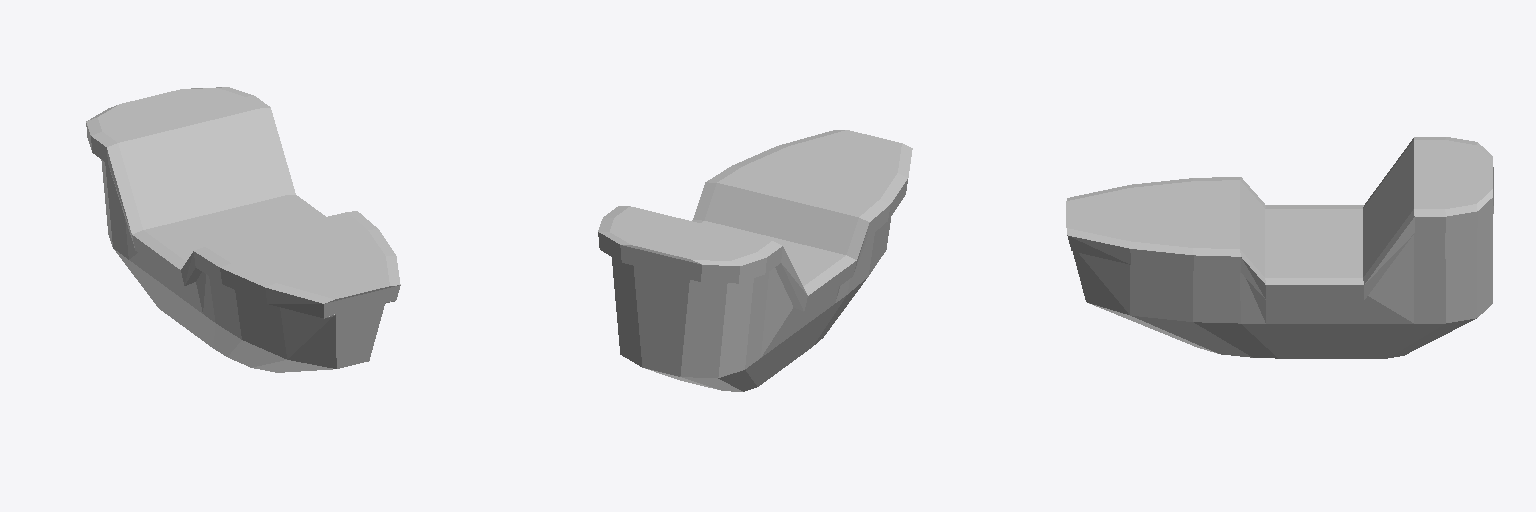
The model's file is deck.obj.
3 renders of one model, left to right at view 1: azimuth 30°, elevation 25°; view 2: azimuth 150°, elevation 25°; view 3: azimuth 270°, elevation 25°, orthographic.
Parts seen in each view (by area): view 1: Plane; view 2: Plane; view 3: Plane.
Boxes of the visible parts, <box> form: Plane: <box>86,87,400,372</box>; Plane: <box>598,130,912,391</box>; Plane: <box>1066,137,1493,358</box>.
Size of the model in its own units: 6 by 5.69 by 13.53.